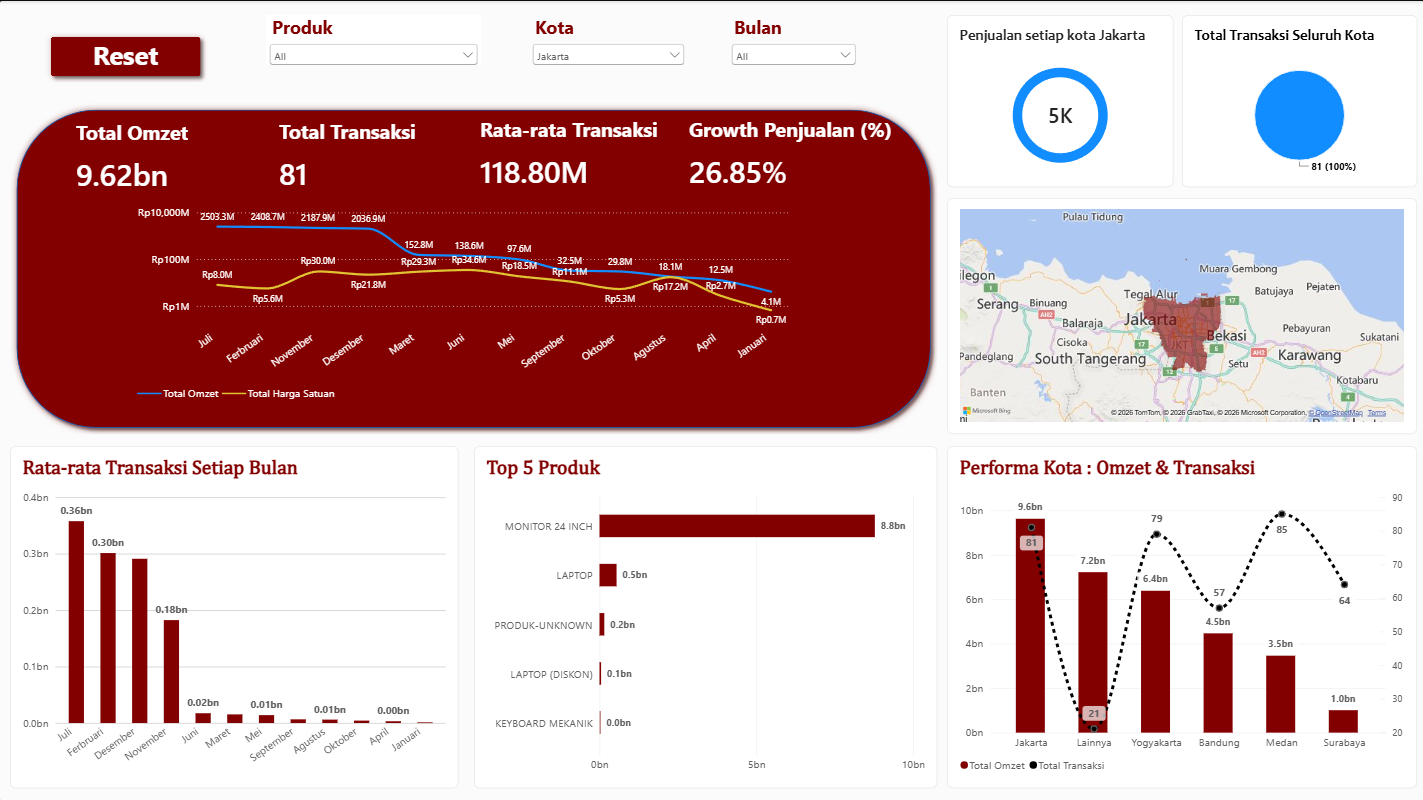

The dashboard page shown, as its layout file describes it:
{"tool":"powerbi","page":{"name":"Duplicate of Duplicate of Page 1","canvas":[1920,1080],"ordinal":0},"visuals":[{"type":"shape","box":[14.6,138.6,1248.9,446.4],"z":0},{"type":"cardVisual","fields":{"Data":["public produksi.Total Omzet"]},"box":[87.5,135.7,300,150],"z":1000},{"type":"lineChart","fields":{"Category":["public produksi.Bulan"],"Y":["public produksi.Total Omzet","public produksi.Total Harga Satuan"]},"box":[170.7,261.2,911.9,299.1],"z":2000},{"type":"slicer","fields":{"Values":["public produksi.Produk"]},"box":[358.9,20.4,290.3,67.1],"z":3000},{"type":"slicer","fields":{"Values":["calendar.Month name"]},"box":[981.9,20.4,176.5,67.1],"z":4000},{"type":"cardVisual","fields":{"Data":["public produksi.Total Transaksi"]},"box":[360.4,134.2,300,150],"z":5000},{"type":"filledMap","fields":{"Category":["public produksi.Kota_Toko"]},"box":[1276.6,267,633.2,318.1],"z":6000},{"type":"slicer","fields":{"Values":["public produksi.Kota_Toko"]},"box":[713.4,20.4,214.5,67.1],"z":7000},{"type":"clusteredColumnChart","title":"Rata-rata Transaksi Setiap Bulan","fields":{"Category":["public produksi.Bulan"],"Y":["public produksi.Rata-rata Transaksi"]},"box":[14.6,601.1,604,461],"z":8000},{"type":"cardVisual","fields":{"Data":["public produksi.Rata-rata Transaksi"]},"box":[631.7,131.3,300,150],"z":9000},{"type":"cardVisual","fields":{"Data":["public produksi.Growth Penjualan (%)"]},"box":[913.3,131.3,319.5,150.3],"z":10000},{"type":"donutChart","fields":{"Category":["public produksi.Kota_Toko"],"Y":["public produksi.Total Quantity"]},"box":[1276.6,20.4,304.9,232],"z":11000},{"type":"clusteredBarChart","title":"Top 5 Produk","fields":{"Category":["public produksi.Produk"],"Y":["public produksi.Total Omzet"]},"box":[639,601.1,624.4,461],"z":12000},{"type":"lineClusteredColumnComboChart","title":"Performa Kota : Omzet & Transaksi","fields":{"Category":["public produksi.Kota_Toko"],"Y":["public produksi.Total Omzet"],"Y2":["public produksi.Total Transaksi"]},"box":[1276.6,601.1,633,461],"z":13000},{"type":"pieChart","title":"Total Transaksi Seluruh Kota","fields":{"Category":["public produksi.Kota_Toko"],"Y":["public produksi.Total Transaksi"]},"box":[1593.2,20.4,316.6,232],"z":14000},{"type":"actionButton","box":[60,40,220,71.4],"z":15000}]}

Visuals, with their boxes in screenshot pixels (x1, y1, x2, y2), scaled from the page's 1920x1080 canvas onto the 1423x800 screenshot:
shape: BBox(11, 103, 936, 433)
cardVisual - public produksi.Total Omzet: BBox(65, 101, 287, 212)
lineChart - public produksi.Bulan x public produksi.Total Omzet: BBox(127, 193, 802, 415)
slicer - public produksi.Produk: BBox(266, 15, 481, 65)
slicer - calendar.Month name: BBox(728, 15, 859, 65)
cardVisual - public produksi.Total Transaksi: BBox(267, 99, 489, 211)
filledMap - public produksi.Kota_Toko: BBox(946, 198, 1415, 433)
slicer - public produksi.Kota_Toko: BBox(529, 15, 688, 65)
"Rata-rata Transaksi Setiap Bulan" clusteredColumnChart: BBox(11, 445, 458, 787)
cardVisual - public produksi.Rata-rata Transaksi: BBox(468, 97, 691, 208)
cardVisual - public produksi.Growth Penjualan (%): BBox(677, 97, 914, 209)
donutChart - public produksi.Kota_Toko x public produksi.Total Quantity: BBox(946, 15, 1172, 187)
"Top 5 Produk" clusteredBarChart: BBox(474, 445, 936, 787)
"Performa Kota : Omzet & Transaksi" lineClusteredColumnComboChart: BBox(946, 445, 1415, 787)
"Total Transaksi Seluruh Kota" pieChart: BBox(1181, 15, 1415, 187)
actionButton: BBox(44, 30, 208, 83)
